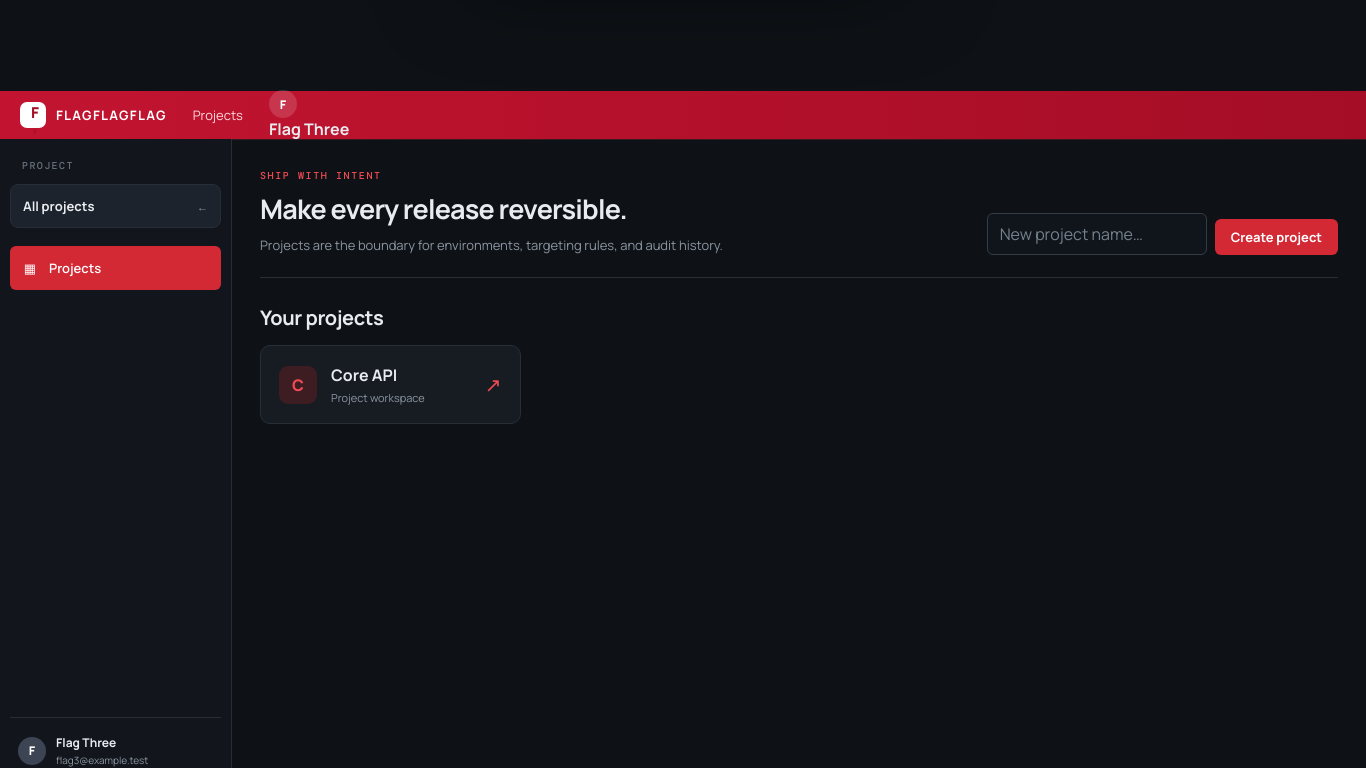
admin control plane › loads additional audit entries from the server cursor
The image size is (1366, 768).
(page scrolled)
Expected: the text "Core API" is shown, [331, 364, 397, 386]
Click the button "C Core API Project workspace ↗": (390, 385) [260, 345, 520, 424]
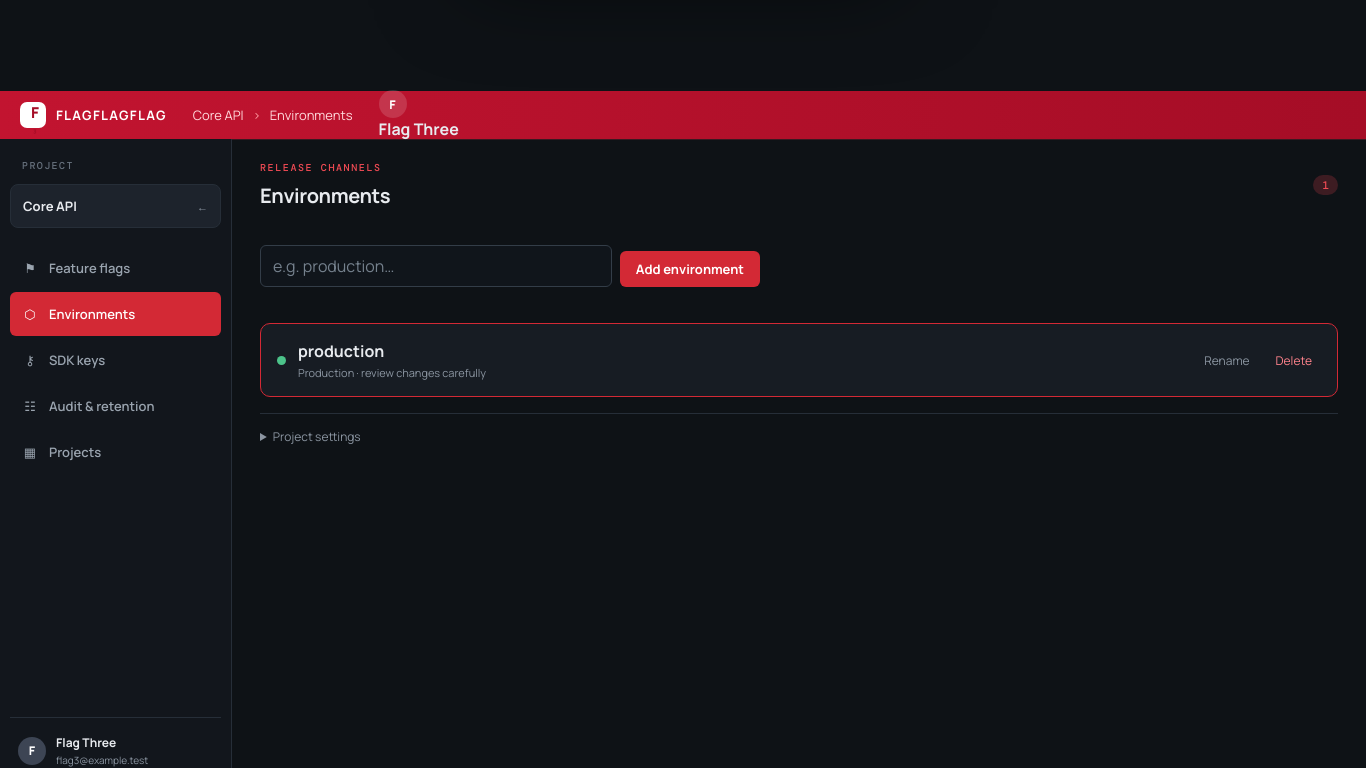
Now the text "production" is shown, box [298, 340, 384, 362]
Click the button "☷ Audit & retention": (116, 406) [10, 384, 221, 428]
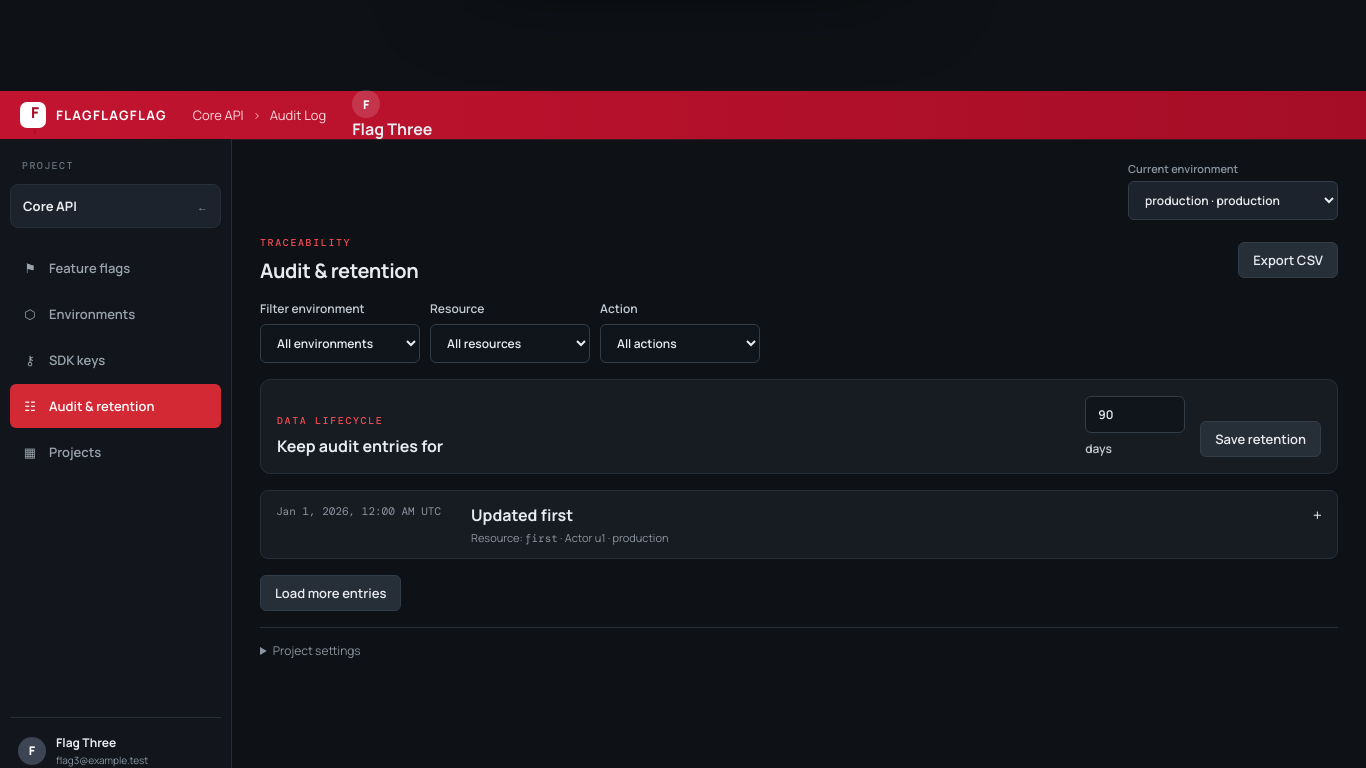
Now the text "Updated first" is shown, box [471, 504, 573, 526]
Click the button "Load more entries": (331, 593) [260, 575, 402, 611]
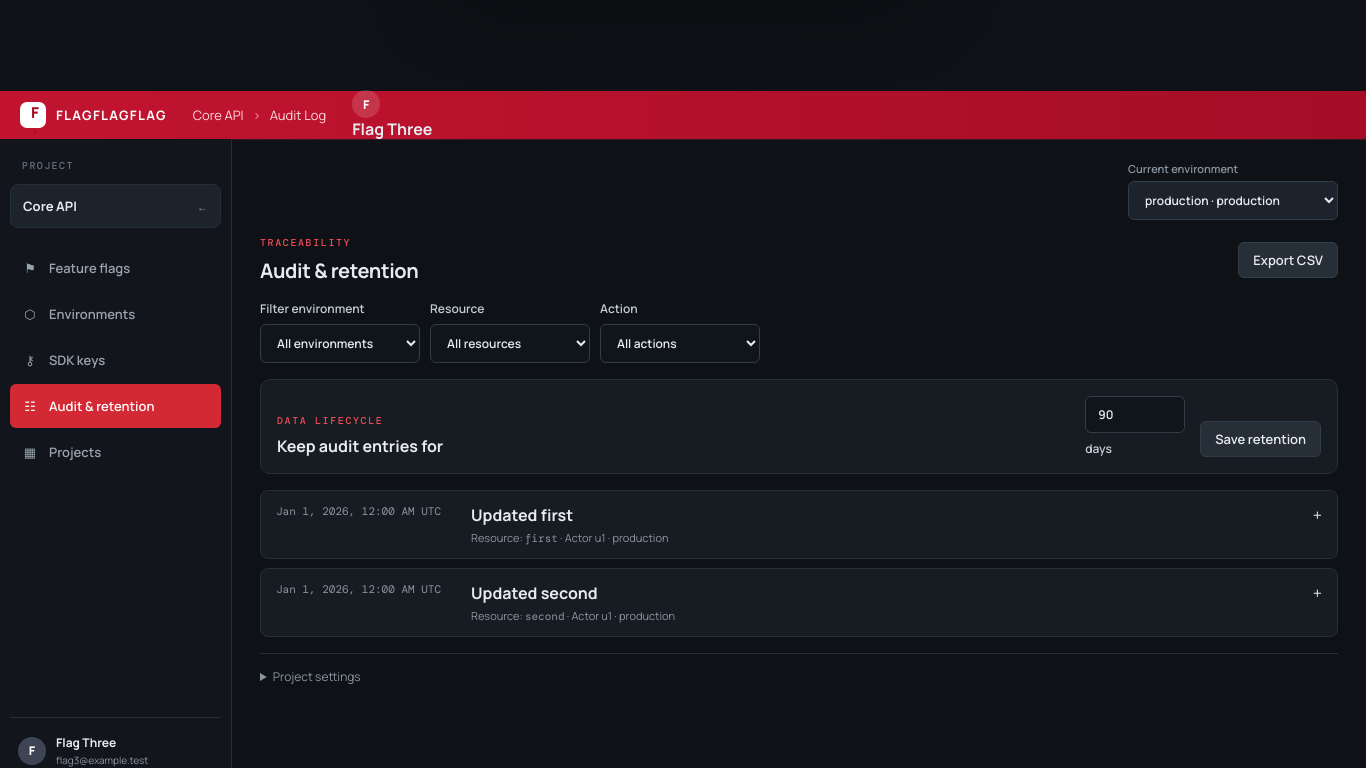
Now the text "Updated second" is shown, box [471, 582, 598, 604]
